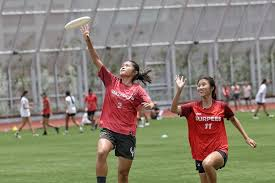disc: (63, 15, 92, 39)
